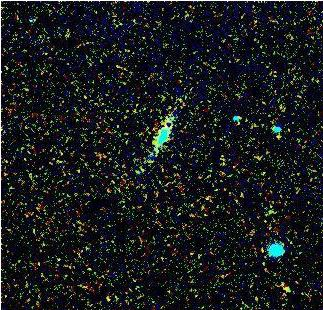star: (270, 274, 300, 304)
